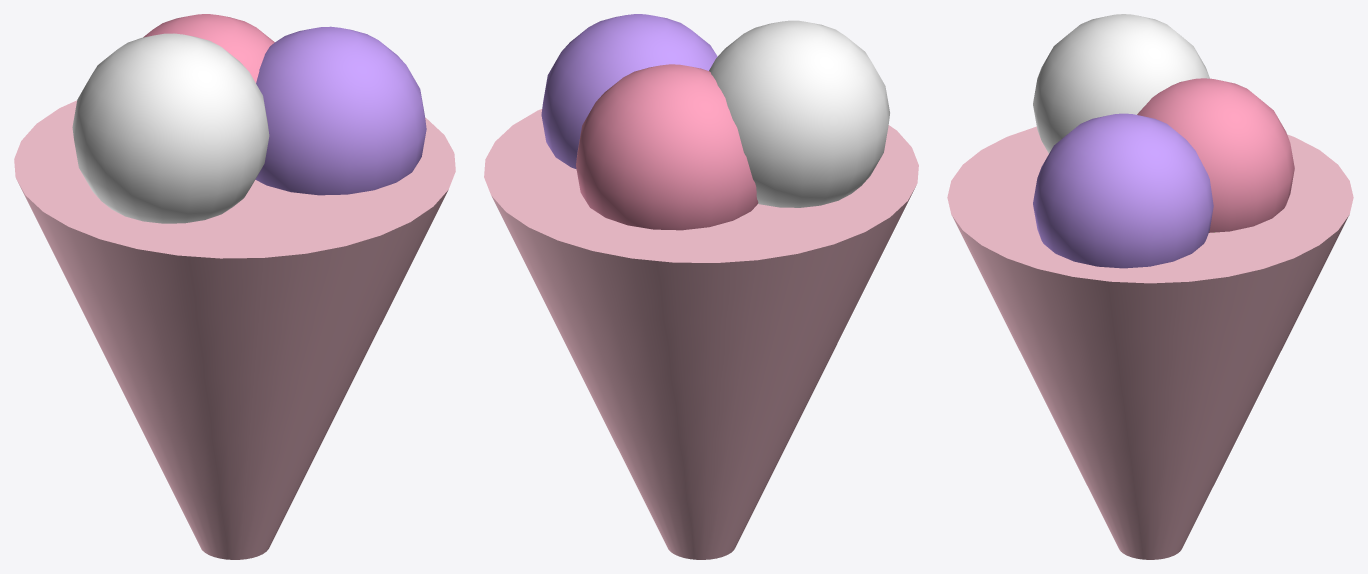
Rendered from mini_bouquet.fbx.
3 renders of one model, left to right at view 1: azimuth 30°, elevation 25°; view 2: azimuth 150°, elevation 25°; view 3: azimuth 270°, elevation 25°, orthographic. The views are drawn at different scales.
Parts seen in each view (by area): view 1: Cone017, Sphere109, Sphere110, Sphere108; view 2: Cone017, Sphere109, Sphere108, Sphere110; view 3: Cone017, Sphere110, Sphere109, Sphere108.
Part boxes in pixels (bbox=[...]): Cone017: bbox=[14, 100, 455, 559]; Sphere109: bbox=[72, 33, 269, 223]; Sphere110: bbox=[255, 26, 426, 195]; Sphere108: bbox=[143, 14, 274, 82]; Cone017: bbox=[484, 109, 918, 559]; Sphere109: bbox=[709, 20, 889, 207]; Sphere108: bbox=[576, 64, 758, 230]; Sphere110: bbox=[541, 14, 717, 169]; Cone017: bbox=[947, 126, 1353, 559]; Sphere110: bbox=[1033, 113, 1213, 268]; Sphere109: bbox=[1033, 14, 1209, 153]; Sphere108: bbox=[1137, 78, 1294, 232].
Bounding box in the file's own units: 3.8 × 5.05 × 3.8.
